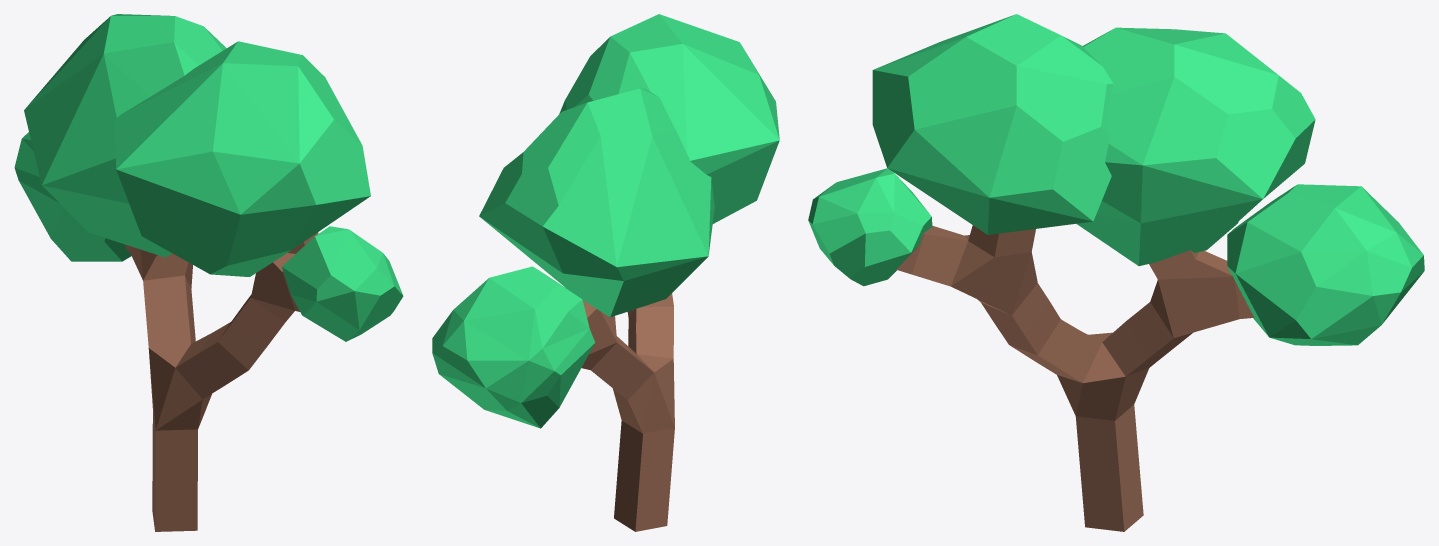
File: TreeUpdated.fbx
3 views of the same model, side by side, from view 1: azimuth 30°, elevation 25°; view 2: azimuth 150°, elevation 25°; view 3: azimuth 270°, elevation 25° (orthographic). The views are drawn at different scales.
Visible parts, largest first — view 1: Treeleaves.001, Treeleaves, Tree, Treeleaves.002, Treeleaves.003; view 2: Treeleaves, Treeleaves.001, Treeleaves.003, Tree; view 3: Treeleaves.001, Treeleaves, Tree, Treeleaves.003, Treeleaves.002.
Part boxes in pixels (x1,y1,x2,y2): Treeleaves.001: (115, 41, 370, 276); Treeleaves: (24, 14, 226, 257); Tree: (125, 232, 318, 531); Treeleaves.002: (282, 226, 403, 341); Treeleaves.003: (14, 132, 131, 261); Treeleaves: (479, 88, 714, 317); Treeleaves.001: (559, 14, 779, 223); Treeleaves.003: (432, 266, 595, 428); Tree: (581, 293, 674, 531); Treeleaves.001: (872, 14, 1113, 234); Treeleaves: (1076, 27, 1315, 265); Tree: (896, 225, 1254, 531); Treeleaves.003: (1227, 184, 1424, 345); Treeleaves.002: (808, 168, 932, 286).
Size of the model in its own units: 703 by 320 by 644.
